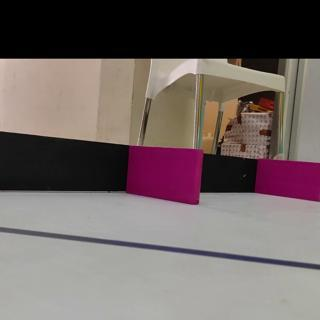xparking: (131, 150, 200, 198), (261, 161, 320, 194)
